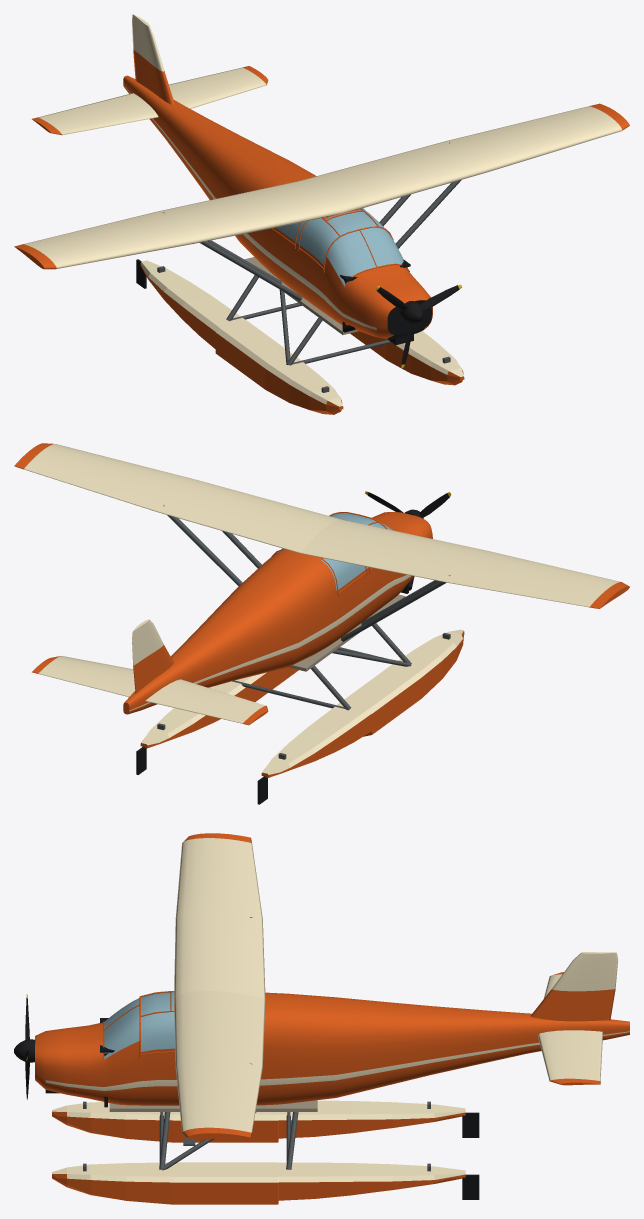
Rendered from Petrel.glb.
3 views of the same model, one above another, from view 1: azimuth 30°, elevation 25°; view 2: azimuth 150°, elevation 25°; view 3: azimuth 270°, elevation 25° (orthographic). The views are drawn at different scales.
Visible parts, largest first — view 1: Fuselage, WingL, WingR, FloatR, Tail, Glass, Struts, FloatL, Propeller, Cabin; view 2: Fuselage, WingL, WingR, FloatR, Tail, Struts, FloatL, Glass, Cabin, Propeller; view 3: Fuselage, FloatL, WingR, WingL, FloatR, Tail, Glass, Struts, Cabin, Propeller.
Boxes of the visible parts, <box> form: Fuselage: <box>123,75,432,345</box>; WingL: <box>300,103,629,212</box>; WingR: <box>14,181,343,269</box>; FloatR: <box>136,259,343,414</box>; Tail: <box>32,14,268,135</box>; Glass: <box>276,208,403,286</box>; Struts: <box>163,142,461,365</box>; FloatL: <box>350,331,464,385</box>; Propeller: <box>375,284,461,367</box>; Cabin: <box>244,257,410,334</box>; Fuselage: <box>123,512,432,714</box>; WingL: <box>14,443,341,553</box>; WingR: <box>300,519,629,608</box>; FloatR: <box>257,629,464,804</box>; Tail: <box>32,619,268,725</box>; Struts: <box>163,505,450,710</box>; FloatL: <box>136,667,298,774</box>; Glass: <box>277,513,392,590</box>; Cabin: <box>288,583,408,671</box>; Propeller: <box>365,491,451,518</box>; Fuselage: <box>35,991,629,1105</box>; FloatL: <box>52,1162,479,1204</box>; WingR: <box>174,833,265,998</box>; WingL: <box>174,991,265,1139</box>; FloatR: <box>52,1100,479,1142</box>; Tail: <box>530,952,617,1085</box>; Glass: <box>104,992,175,1059</box>; Struts: <box>159,917,298,1170</box>; Cabin: <box>100,1018,317,1111</box>; Propeller: <box>14,994,35,1099</box>.
Size of the model in its own units: 11.6 by 3.98 by 10.07.
